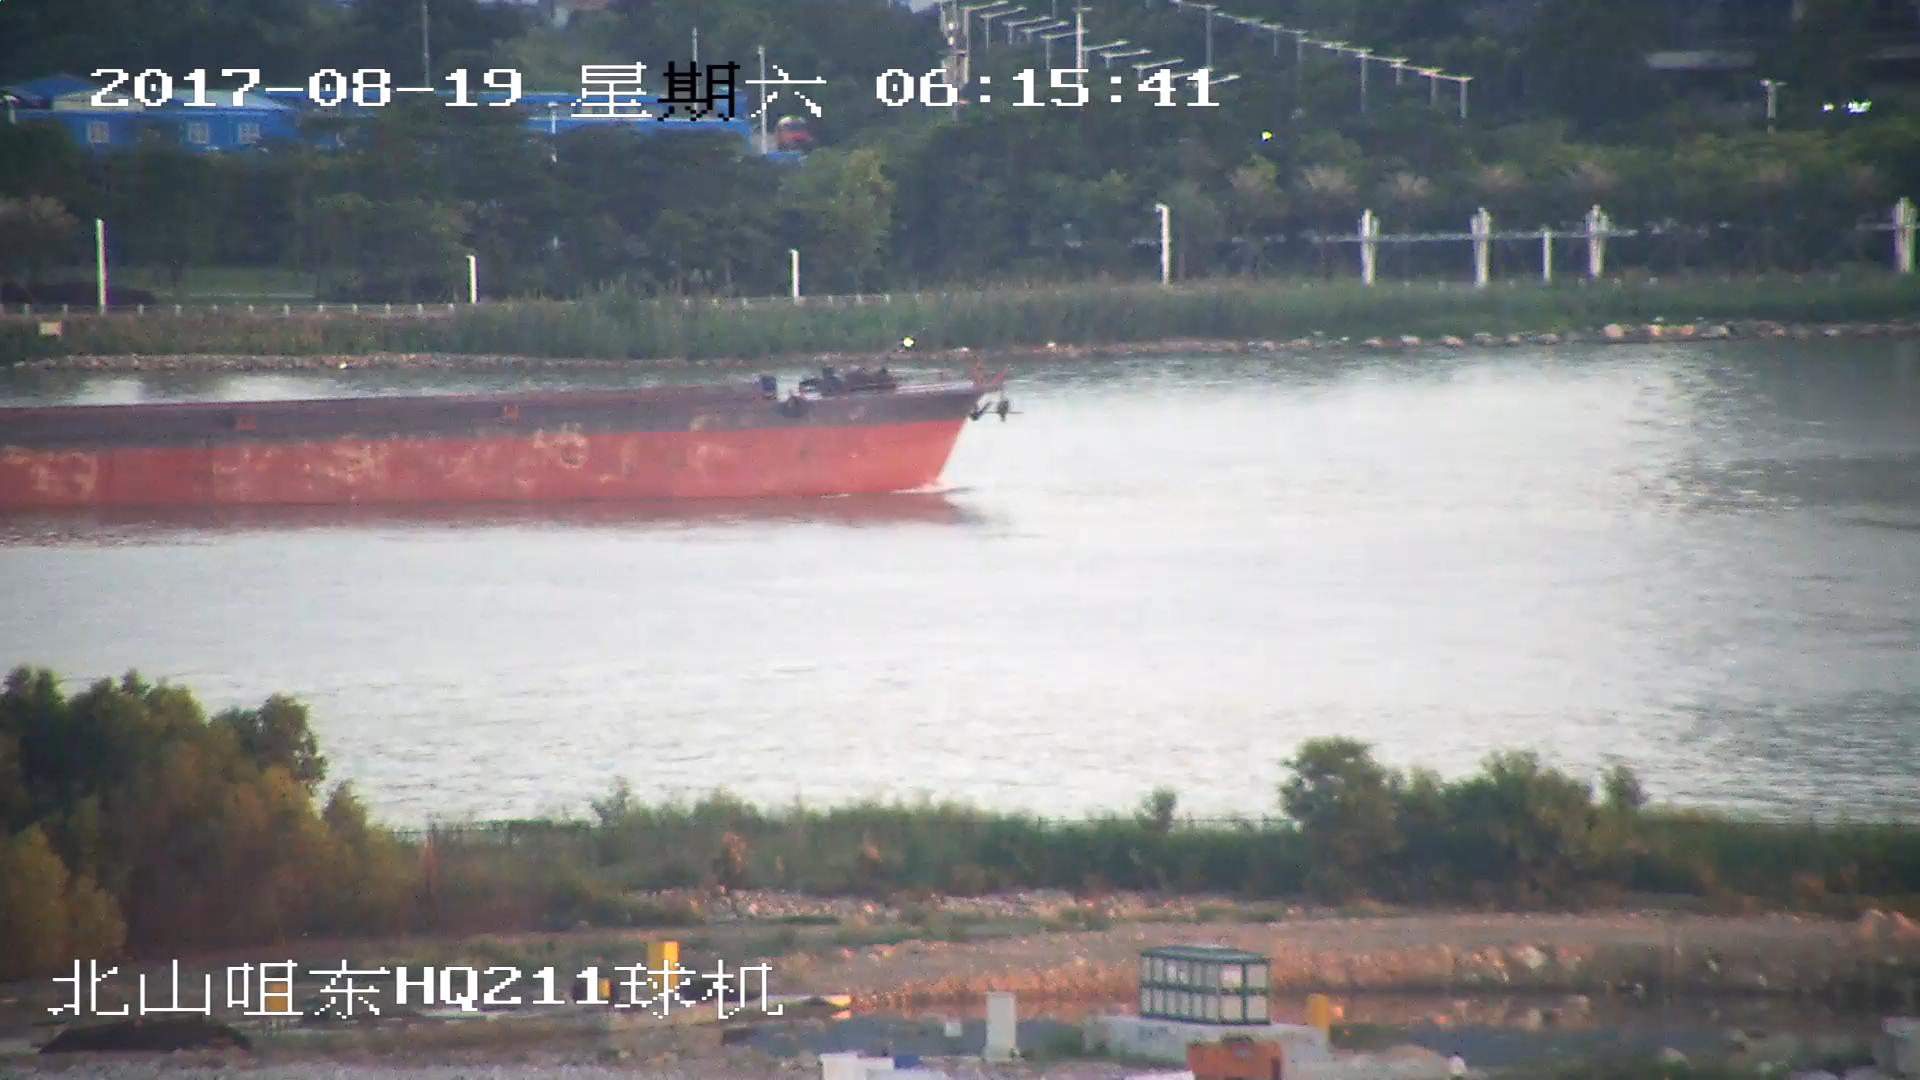bulk cargo carrier: (1, 349, 1013, 503)
